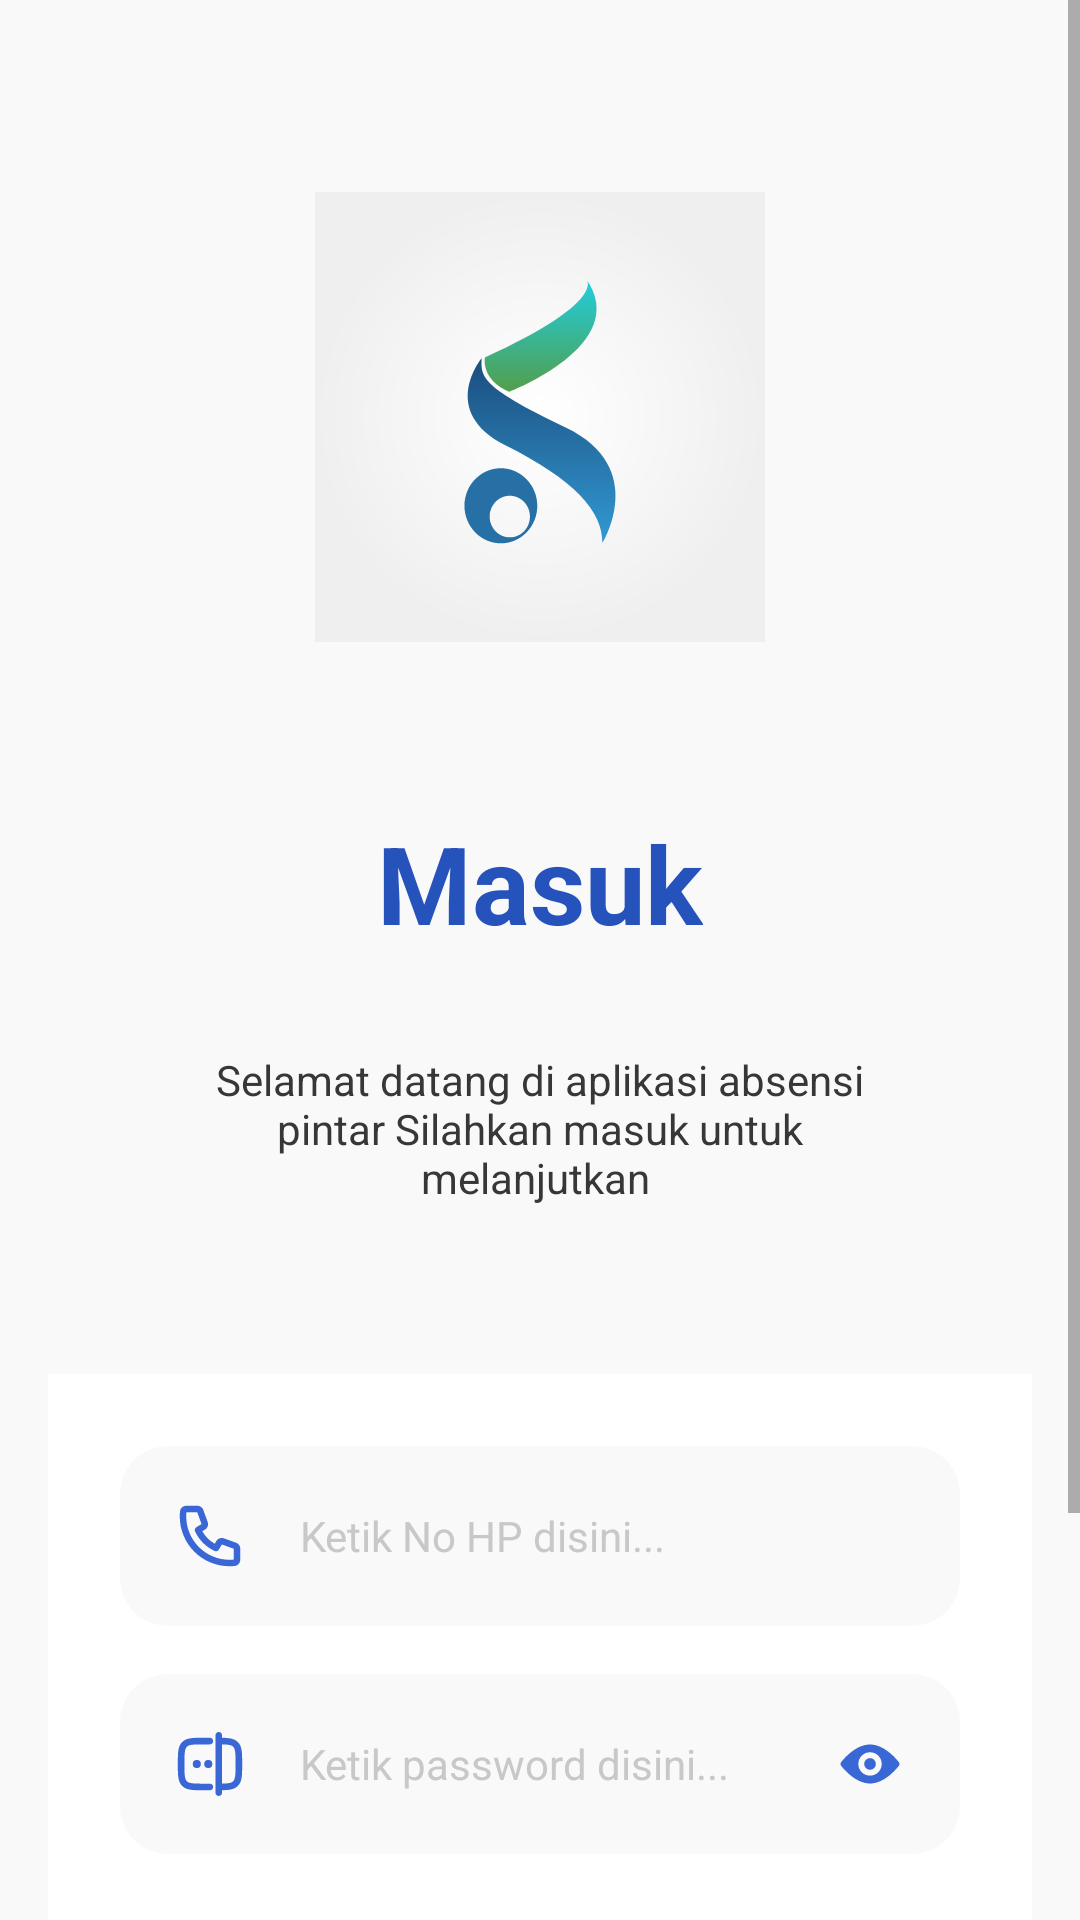

Icon click points for this 1080px x 1920px phone screenshot, format (x=x, y=y):
Toggle Password Visibility: (x=870, y=1764)
